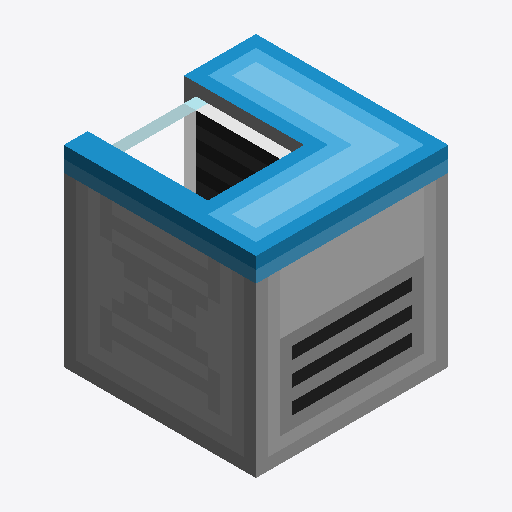
Isometric view (azimuth 45°, elevation 35.3°) of a Minecraft model made of 5 cuboids, textured from the same repository.
Visible parts, largest first — element 2, element 1, element 3, element 5, element 4.
Boxes of the visible parts, x1,y1,x2,y2 form: element 2: [64, 131, 279, 393]; element 1: [64, 284, 447, 477]; element 3: [184, 34, 447, 324]; element 5: [208, 145, 375, 380]; element 4: [113, 97, 290, 192].
Size of the model in its own units: 16 by 16 by 16.